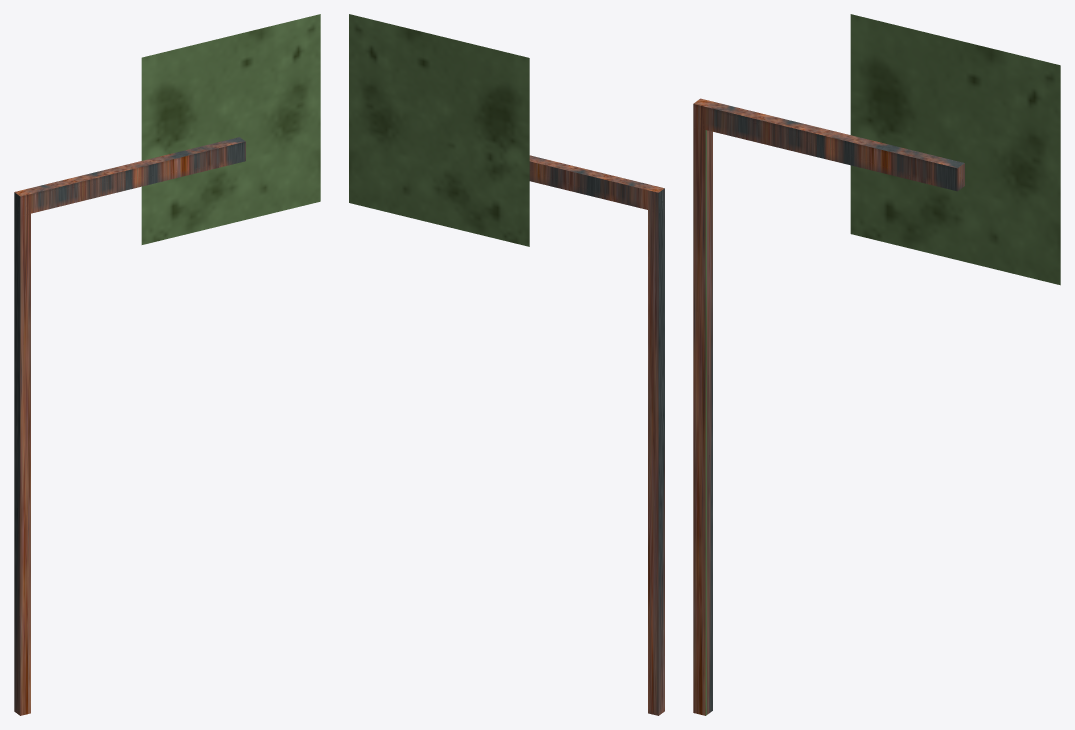
The model's file is Sign_TurnRight.fbx.
The picture shows the model from 3 angles, left to right: view 1: azimuth 30°, elevation 25°; view 2: azimuth 150°, elevation 25°; view 3: azimuth 330°, elevation 25°; orthographic projection. The views are drawn at different scales.
Parts seen in each view (by area): view 1: Sign_TurnRight, Sign_TurnRight.001; view 2: Sign_TurnRight, Sign_TurnRight.001; view 3: Sign_TurnRight, Sign_TurnRight.001.
Part boxes in pixels (left/top/right/bottom): Sign_TurnRight: left=141, top=14, right=320, bottom=244; Sign_TurnRight.001: left=14, top=137, right=245, bottom=715; Sign_TurnRight: left=349, top=14, right=529, bottom=246; Sign_TurnRight.001: left=529, top=155, right=664, bottom=715; Sign_TurnRight: left=850, top=14, right=1060, bottom=285; Sign_TurnRight.001: left=693, top=98, right=964, bottom=715.
Bounding box in the file's own units: 141 × 273 × 5.19.
Materials: 2 (1 with a texture image).
